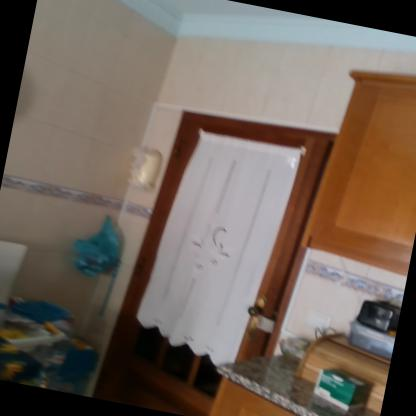closed: (112, 89, 336, 414)
